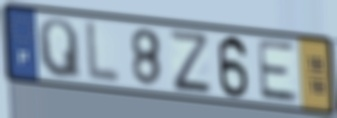6: (215, 33, 251, 100)
8: (129, 26, 165, 88)
E: (255, 37, 301, 105)
L: (85, 19, 122, 88)
Q: (36, 16, 84, 83)
Z: (166, 27, 214, 93)
